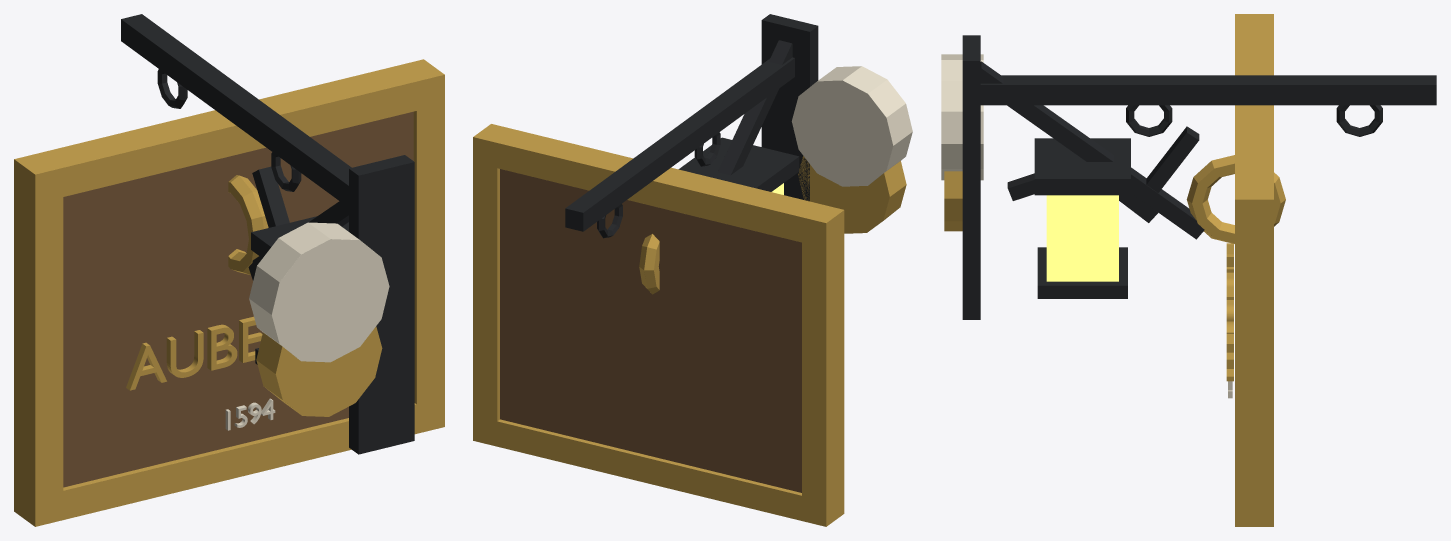
The model's file is V_Enseigne.glb.
3 renders of one model, left to right at view 1: azimuth 30°, elevation 25°; view 2: azimuth 150°, elevation 25°; view 3: azimuth 270°, elevation 25°, orthographic. The views are drawn at different scales.
Visible parts, largest first — view 1: V_Enseigne; view 2: V_Enseigne; view 3: V_Enseigne.
Boxes of the visible parts, <box> form: V_Enseigne: <box>14,14,444,526</box>; V_Enseigne: <box>473,14,912,526</box>; V_Enseigne: <box>941,14,1436,526</box>.
Bounding box in the file's own units: 1.46 × 1.42 × 1.65.
